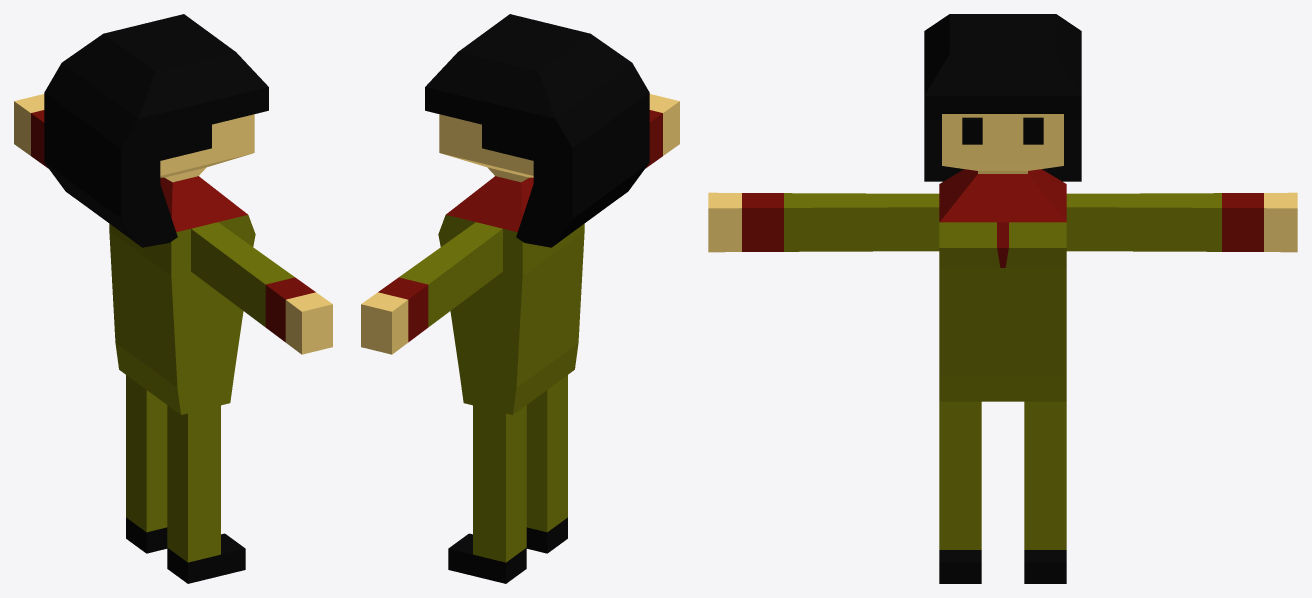
The model's file is NPC (Feminino) 2.fbx.
3 renders of one model, left to right at view 1: azimuth 30°, elevation 25°; view 2: azimuth 150°, elevation 25°; view 3: azimuth 270°, elevation 25°, orthographic. The views are drawn at different scales.
Parts seen in each view (by area): view 1: Cube; view 2: Cube; view 3: Cube.
Boxes of the visible parts, bbox=[...] form: Cube: bbox=[14, 14, 332, 583]; Cube: bbox=[361, 14, 679, 583]; Cube: bbox=[708, 14, 1297, 583].
Size of the model in its own units: 119 by 396 by 401.
